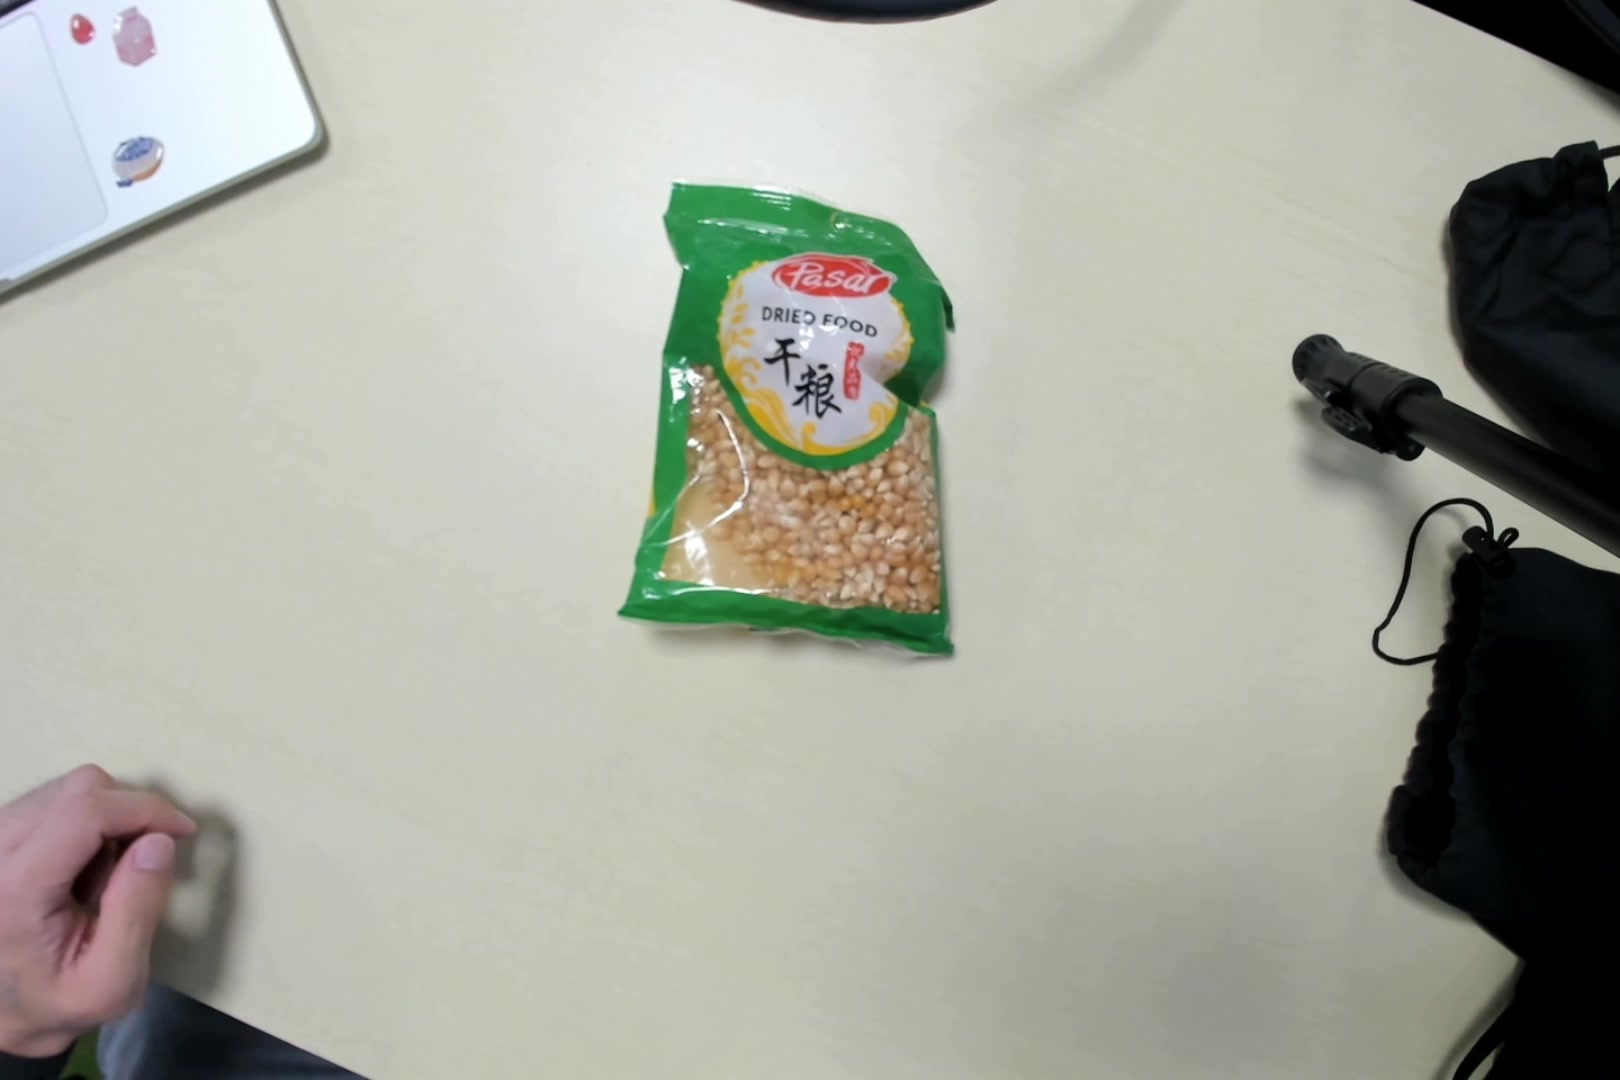DriedBeans(RedGreenSdy)_400-499g_NonHalal_NonHealthy: (636, 193, 955, 640)
